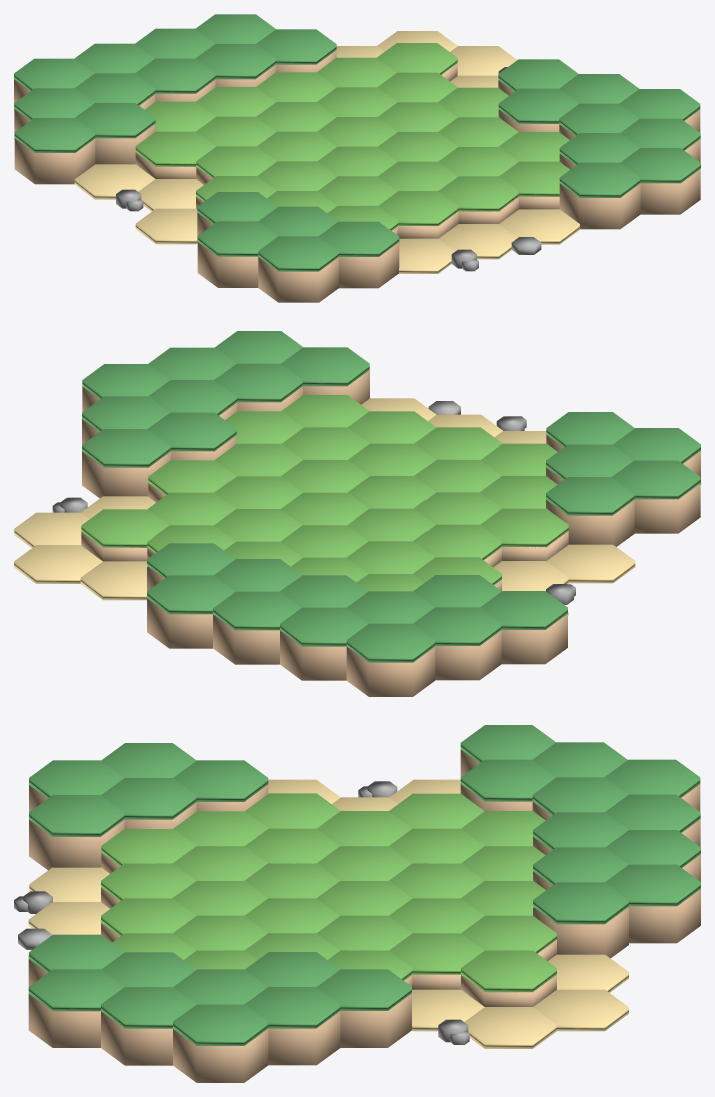
Rendered from Island_color.glb.
3 views of the same model, one above another, from view 1: azimuth 30°, elevation 25°; view 2: azimuth 150°, elevation 25°; view 3: azimuth 270°, elevation 25° (orthographic). The views are drawn at different scales.
Visible parts, largest first — view 1: Cylinder.044, Cylinder.112, Cylinder.039, Cylinder.114, Cylinder.096, Cylinder.091, Cylinder.101, Cylinder.093, Cylinder.061, Cylinder.090, Cylinder.095, Cylinder.083 (+68 smaller); view 2: Cylinder.037, Cylinder.089, Cylinder.094, Cylinder.102, Cylinder.106, Cylinder.114, Cylinder.088, Cylinder.093, Cylinder.084, Cylinder.101, Cylinder.098, Cylinder.085 (+65 smaller); view 3: Cylinder.051, Cylinder.082, Cylinder.052, Cylinder.095, Cylinder.103, Cylinder.108, Cylinder.109, Cylinder.084, Cylinder.113, Cylinder.090, Cylinder.100, Cylinder.092 (+64 smaller).
Boxes of the visible parts, x1,y1,x2,y2 form: Cylinder.044: [258, 257, 338, 302]; Cylinder.112: [559, 183, 640, 229]; Cylinder.039: [14, 138, 95, 184]; Cylinder.114: [559, 162, 640, 197]; Cylinder.096: [258, 236, 338, 271]; Cylinder.091: [14, 118, 95, 152]; Cylinder.101: [498, 88, 579, 123]; Cylinder.093: [197, 221, 278, 256]; Cylinder.061: [135, 131, 215, 166]; Cylinder.090: [75, 103, 155, 138]; Cylinder.095: [318, 221, 399, 256]; Cylinder.083: [135, 58, 215, 93]; Cylinder.037: [346, 647, 435, 696]; Cylinder.089: [346, 623, 435, 662]; Cylinder.094: [546, 477, 634, 515]; Cylinder.102: [82, 429, 170, 467]; Cylinder.106: [547, 544, 635, 583]; Cylinder.114: [281, 347, 369, 386]; Cylinder.088: [280, 607, 368, 646]; Cylinder.093: [612, 460, 700, 499]; Cylinder.084: [147, 575, 235, 614]; Cylinder.101: [148, 412, 236, 451]; Cylinder.098: [214, 363, 302, 402]; Cylinder.085: [213, 591, 301, 630]; Cylinder.051: [173, 1029, 268, 1082]; Cylinder.082: [533, 882, 628, 924]; Cylinder.052: [461, 950, 556, 992]; Cylinder.095: [29, 795, 124, 836]; Cylinder.103: [173, 1004, 268, 1045]; Cylinder.108: [464, 1007, 556, 1048]; Cylinder.109: [533, 989, 628, 1031]; Cylinder.084: [605, 864, 700, 906]; Cylinder.113: [28, 969, 124, 1011]; Cylinder.090: [460, 759, 555, 801]; Cylinder.100: [245, 987, 340, 1028]; Cylinder.092: [101, 778, 196, 819].
Size of the model in its own units: 93.07 by 6.29 by 86.03.
